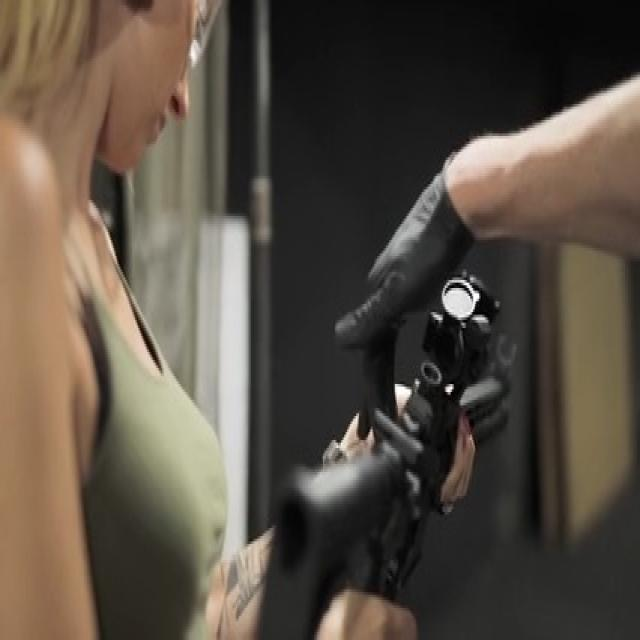Gun_Holder: (241, 269, 609, 640)
Person: (0, 0, 282, 640)
